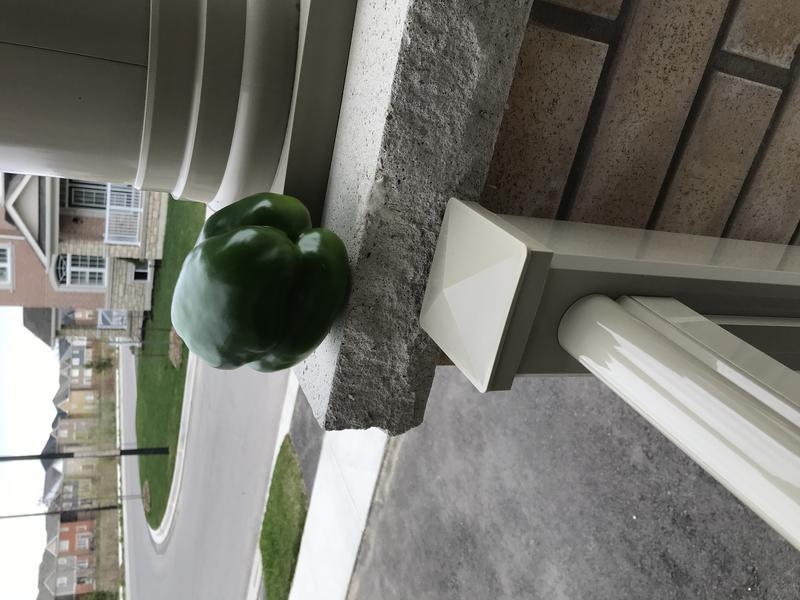green_pepper: (168, 183, 357, 381)
